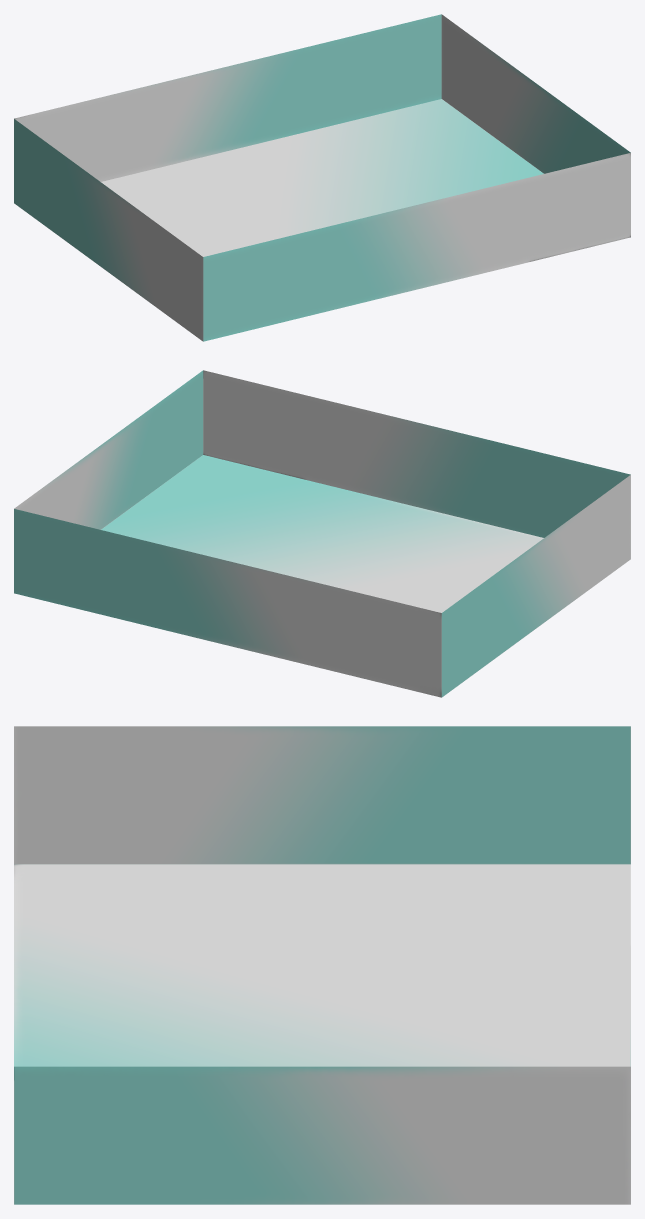
File: malaka_stadium_cubo.obj
3 renders of one model, top to bottom at view 1: azimuth 30°, elevation 25°; view 2: azimuth 150°, elevation 25°; view 3: azimuth 270°, elevation 25°, orthographic. The views are drawn at different scales.
Visible parts, largest first — view 1: Cube.013_Cube.001; view 2: Cube.013_Cube.001; view 3: Cube.013_Cube.001.
Part boxes in pixels (x1,y1,x2,y2): Cube.013_Cube.001: (14,14,630,341); Cube.013_Cube.001: (14,370,630,697); Cube.013_Cube.001: (14,726,630,1204).
Bounding box in the file's own units: 149 × 28.12 × 114.
